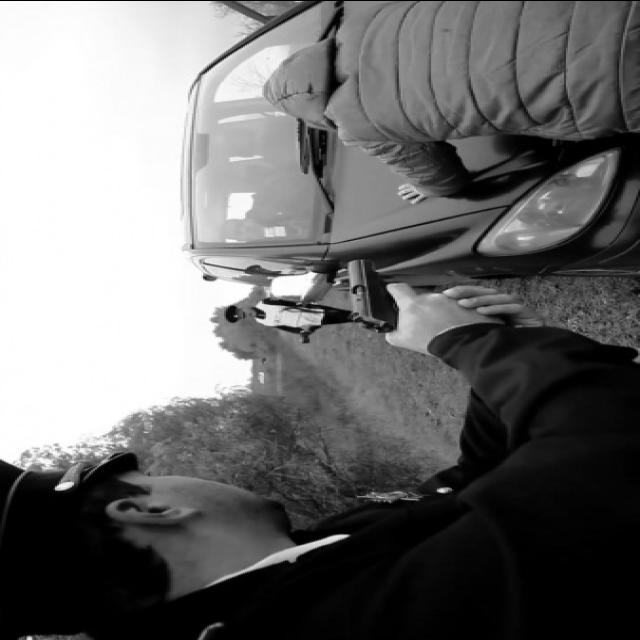weapons: (316, 248, 462, 350)
